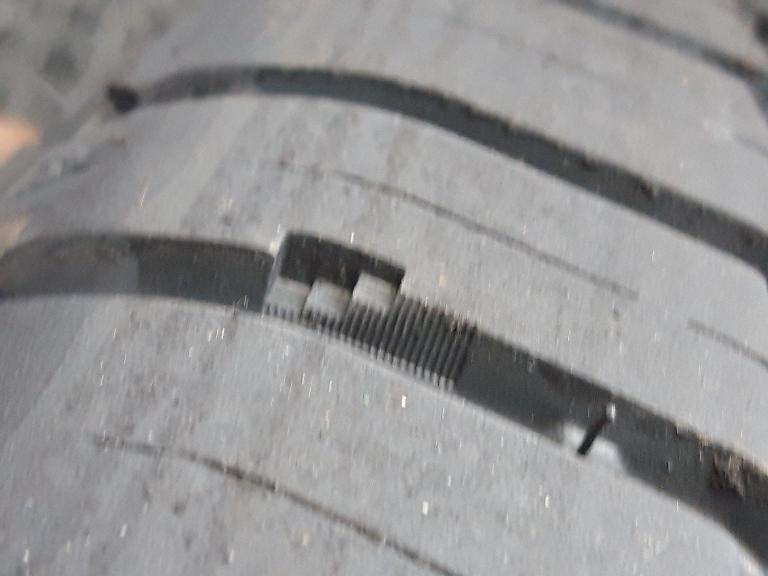temoin:75: (248, 218, 448, 377)
